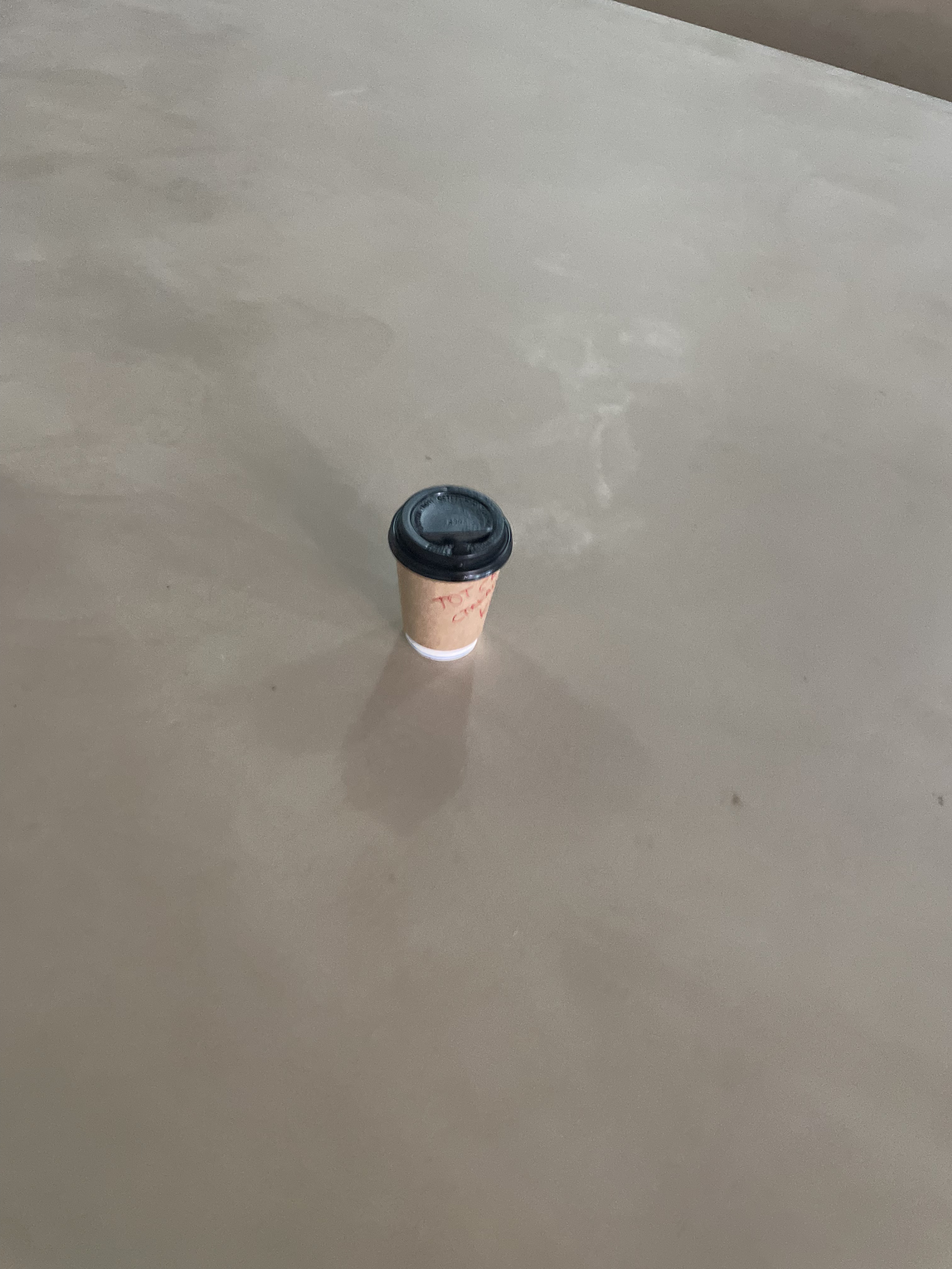cup: (388, 482, 513, 661)
